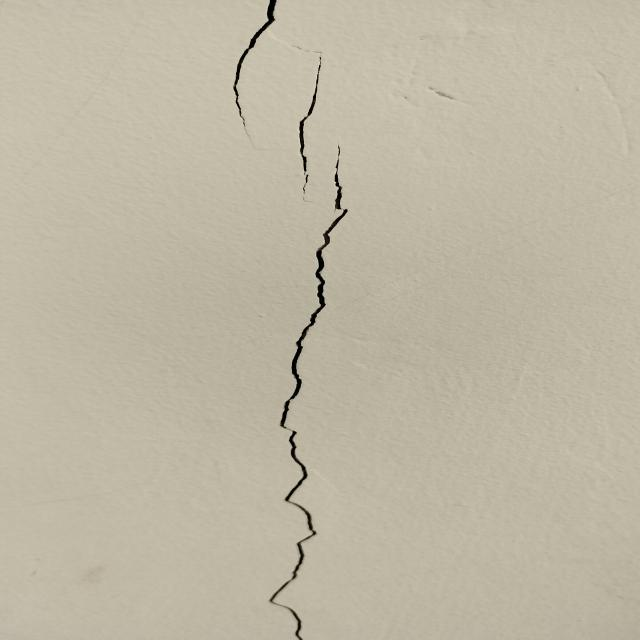Crack: (266, 205, 347, 640)
